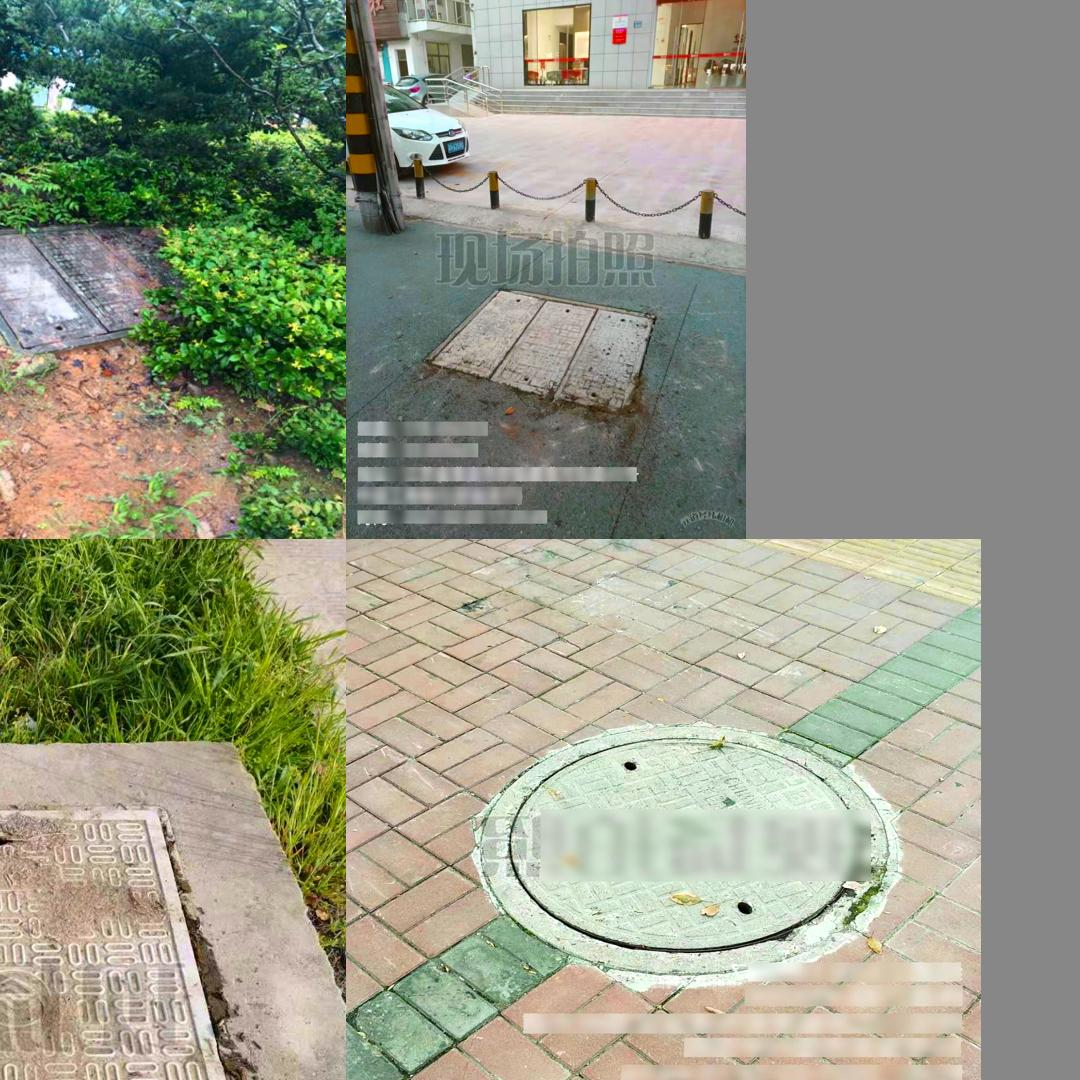good: (468, 730, 892, 979), (0, 740, 242, 1080), (422, 288, 654, 415), (0, 219, 177, 353)
